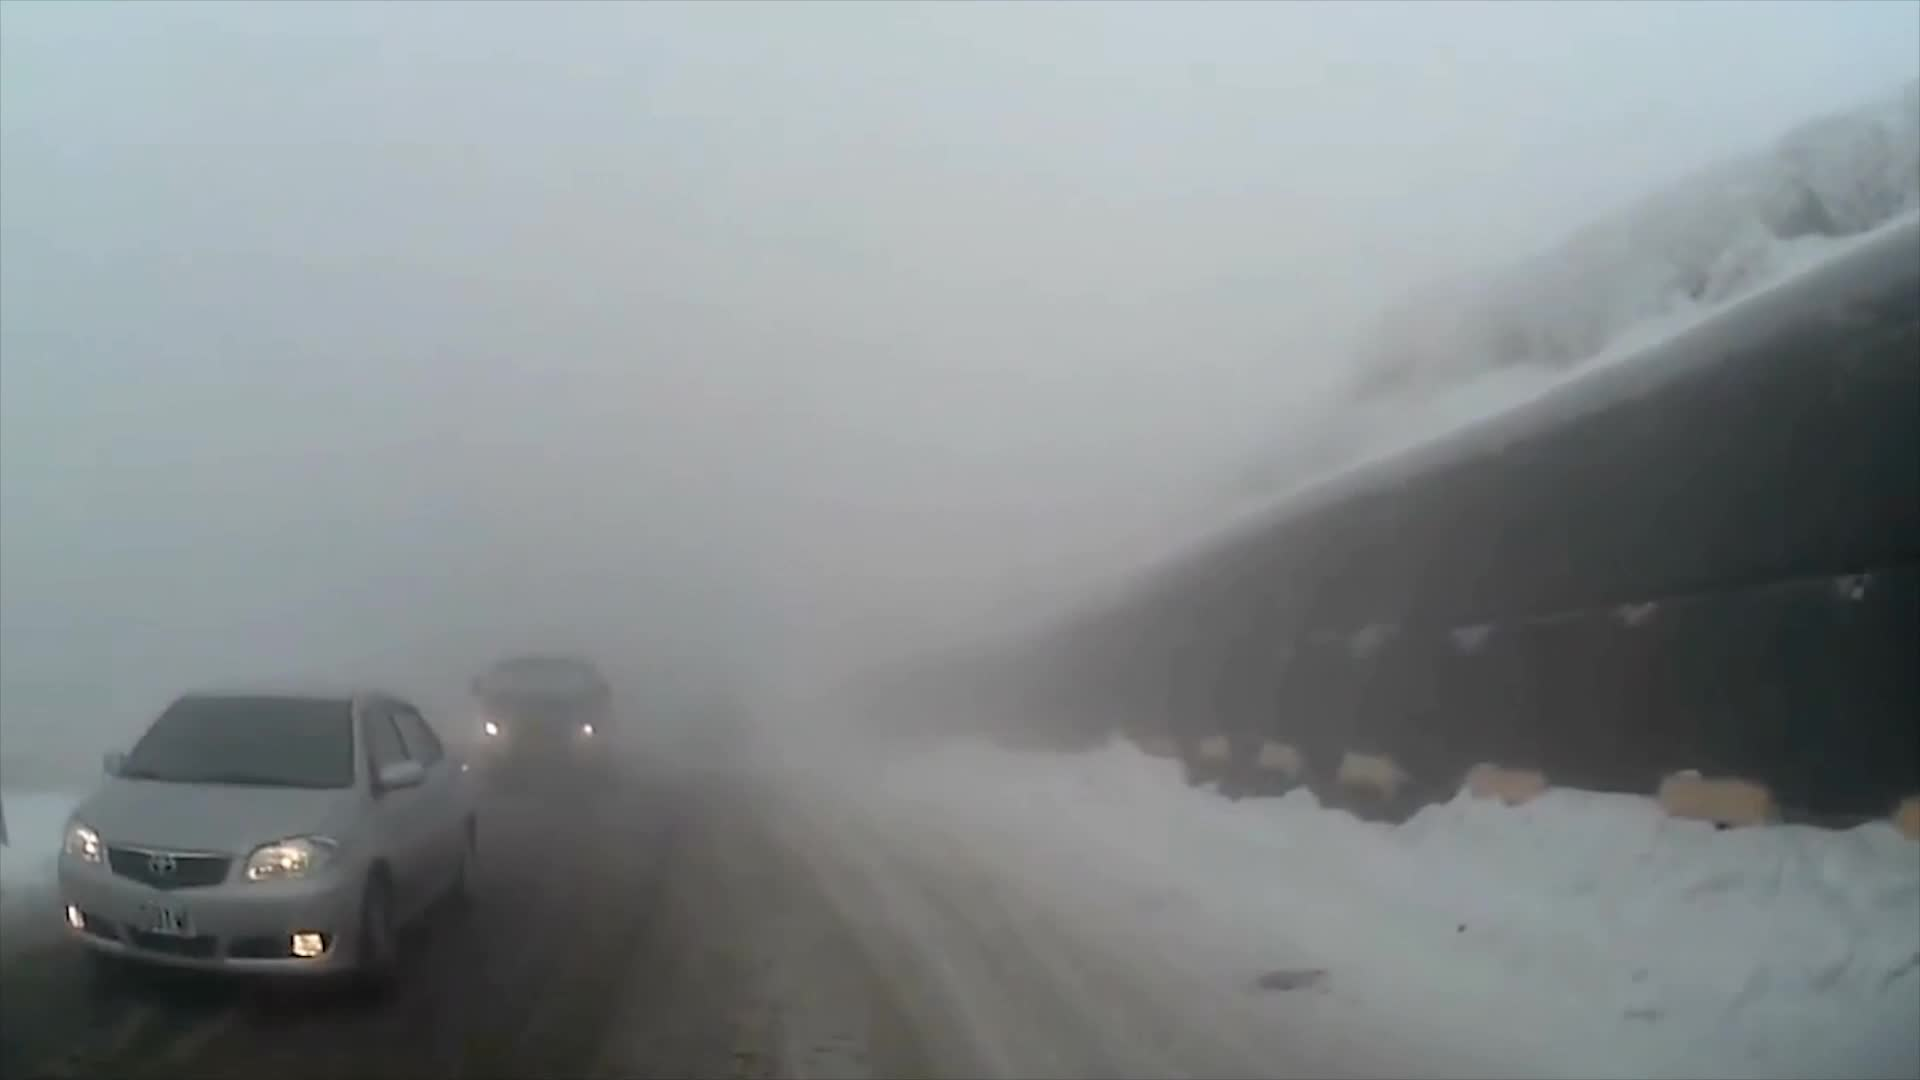vehicle: (53, 678, 483, 1002), (465, 649, 616, 781)
